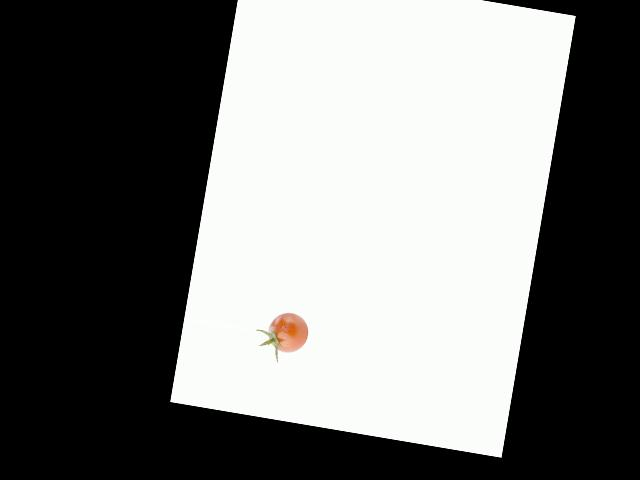tomato: (266, 309, 311, 354)
